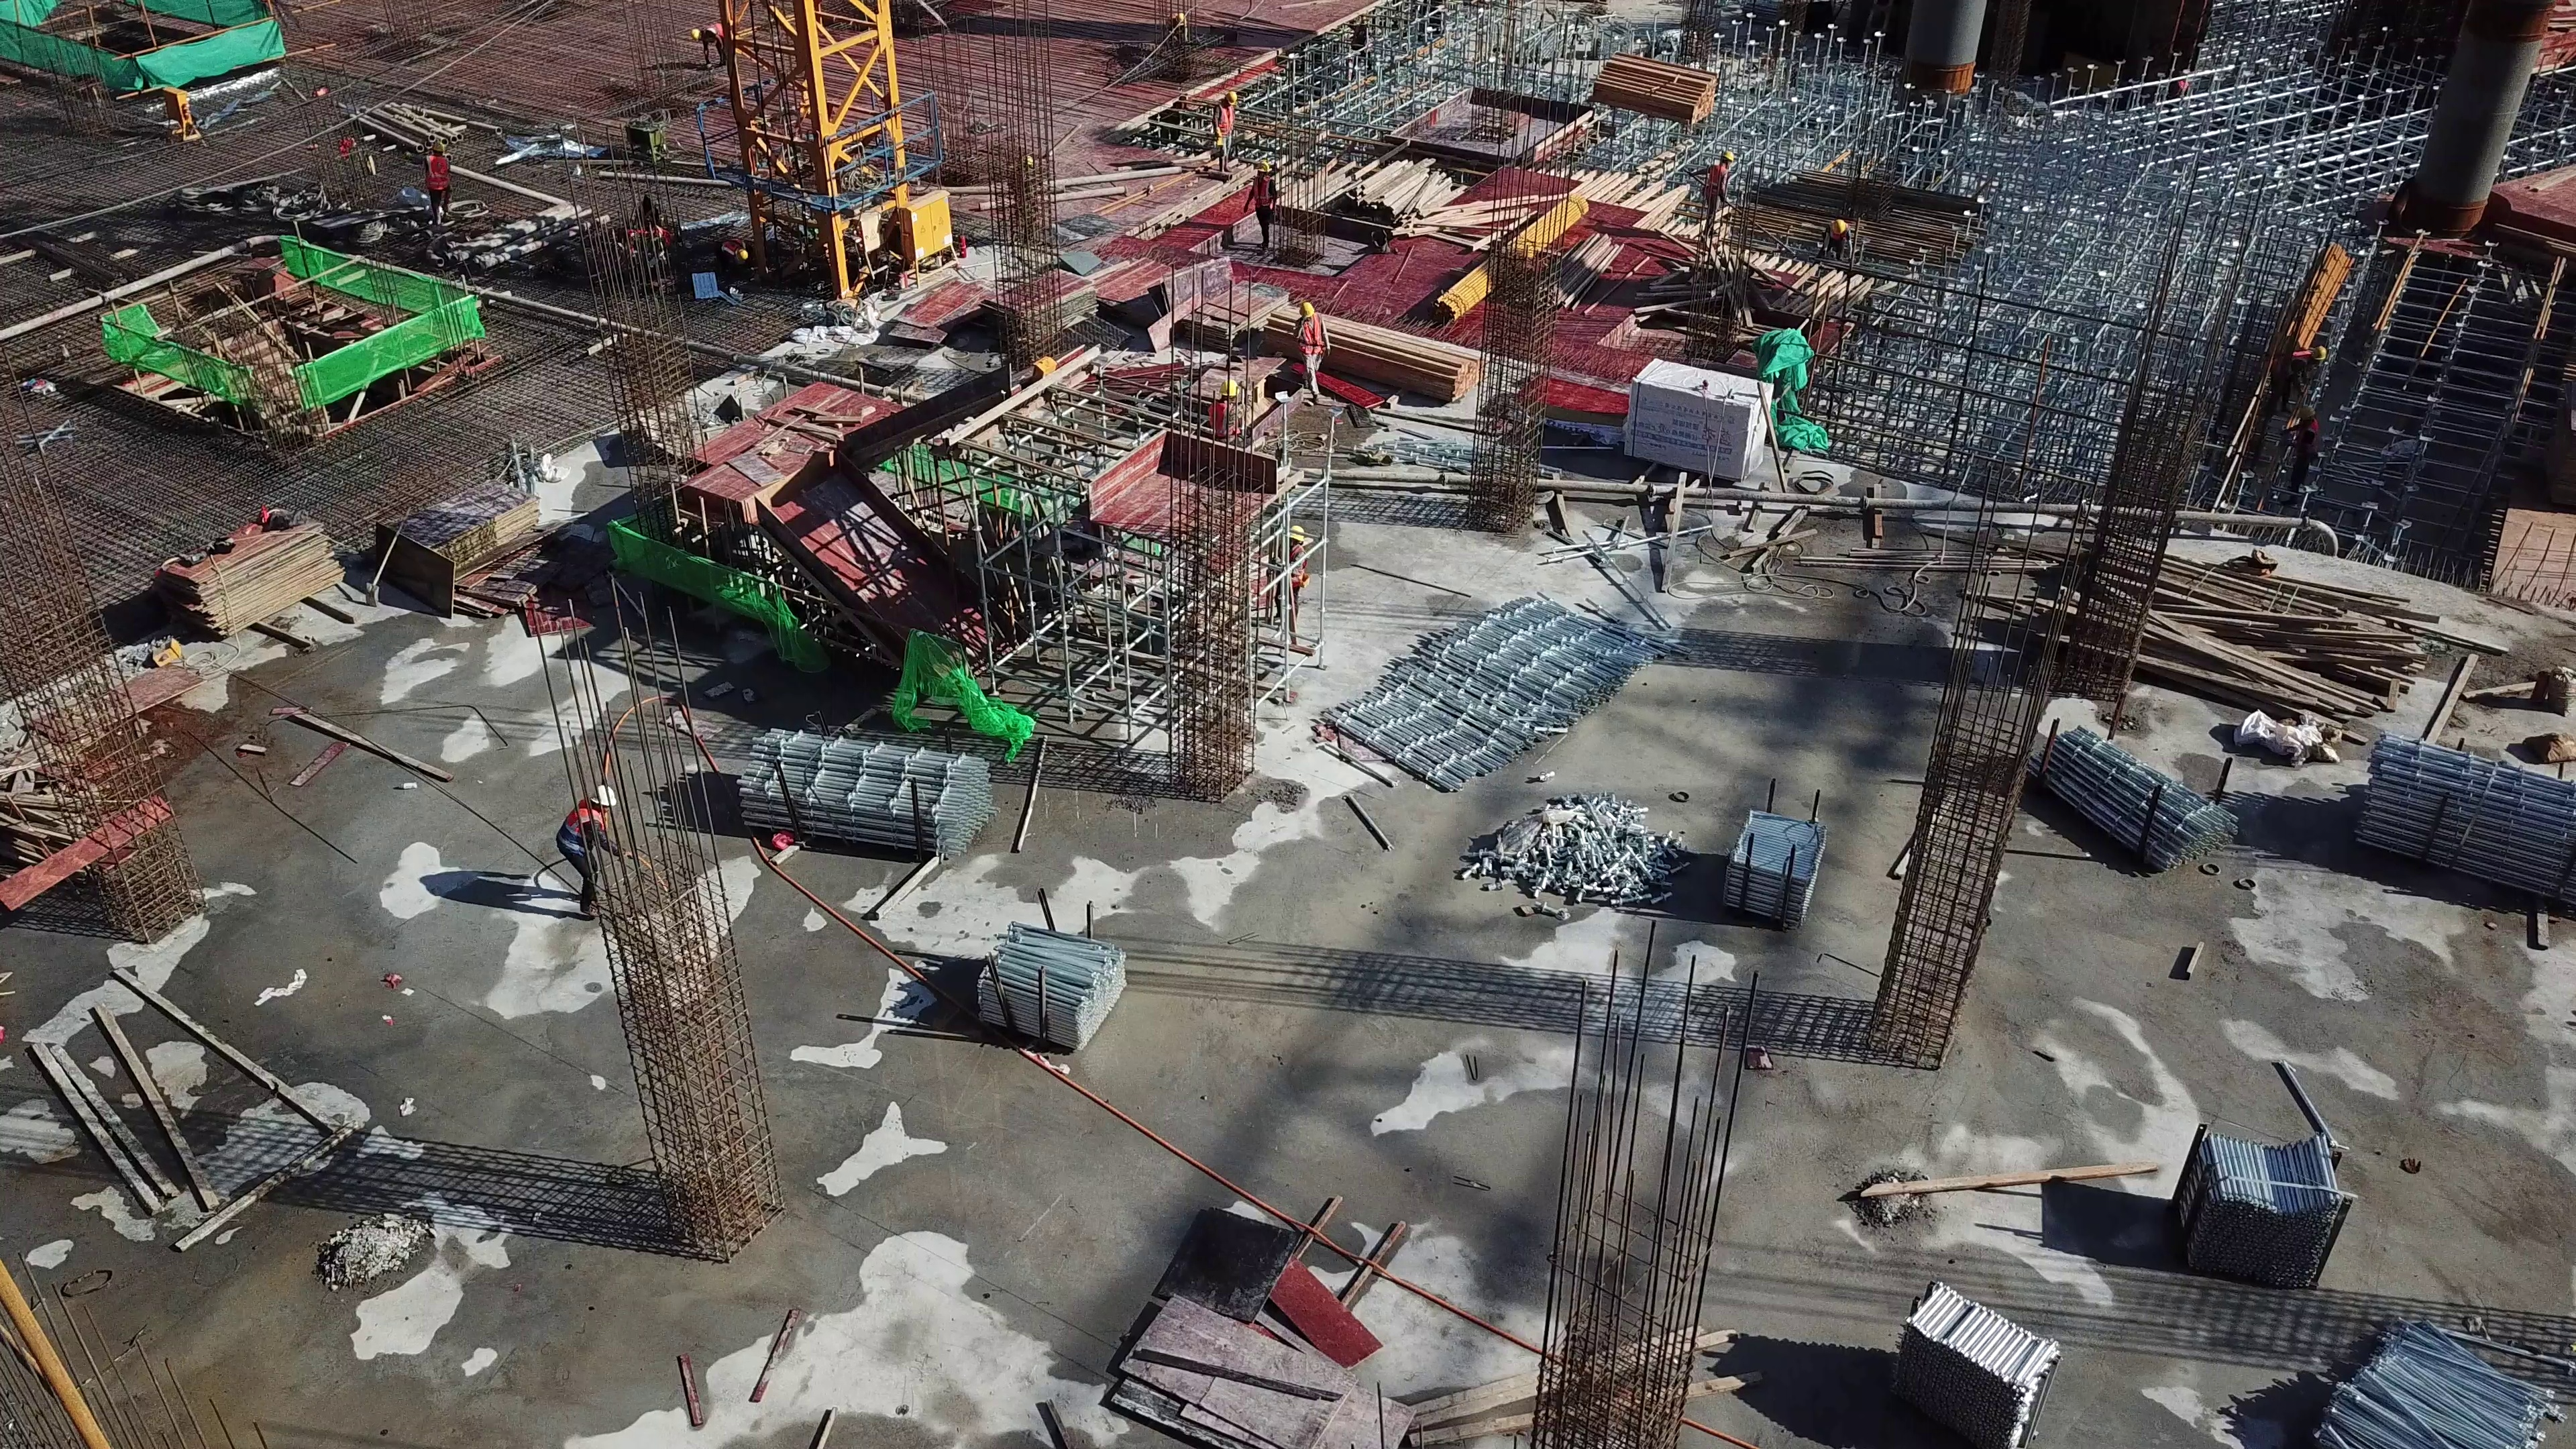board: (154, 515, 350, 643), (382, 474, 554, 613)
helmet: (583, 786, 606, 812)
person: (551, 780, 624, 911), (420, 123, 458, 240), (1289, 305, 1330, 392), (1204, 85, 1242, 179), (1706, 144, 1738, 252), (1195, 380, 1245, 435), (1817, 219, 1855, 275)
scaffold: (1327, 587, 1639, 797), (1467, 800, 1846, 926), (2330, 707, 2576, 894), (703, 730, 1015, 853), (2275, 1320, 2561, 1449), (1890, 1264, 2075, 1449), (2164, 1097, 2353, 1279), (2024, 712, 2196, 873), (971, 914, 1137, 1057)
vest: (554, 806, 609, 859)
wood: (1974, 537, 2412, 747), (1251, 144, 1522, 258), (1303, 313, 1487, 415)
